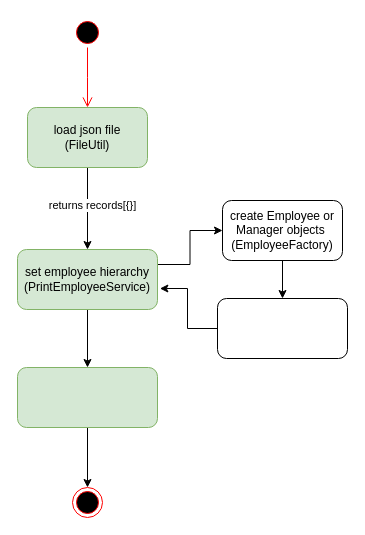
Some shapes in this 365 by 535 pixel diagram are drawn without their labels. The centre of each missing label's shape, as x and y in pixels:
"print office hierarchy (PrintEmployeeService)" goes at [87,397].
"set employee level (PrintEmployeeService)" goes at [282,328].
